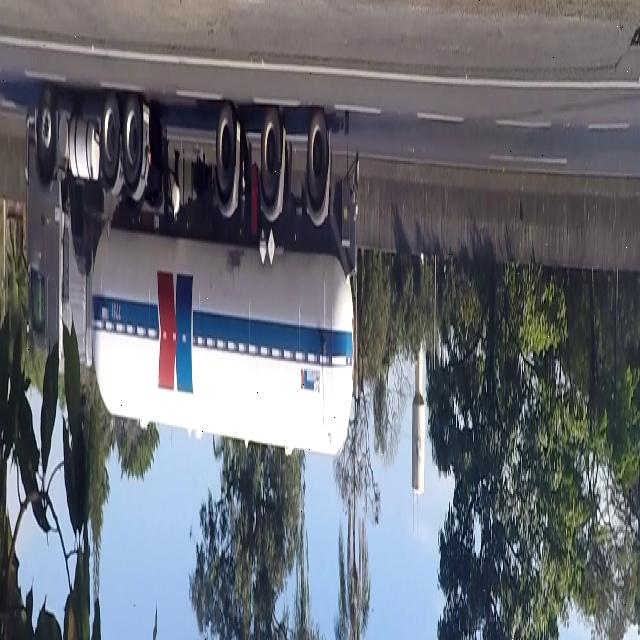-axle: (306, 100, 331, 216), (216, 91, 238, 216), (98, 87, 122, 192), (122, 84, 145, 192), (260, 94, 282, 206), (34, 70, 58, 169)
